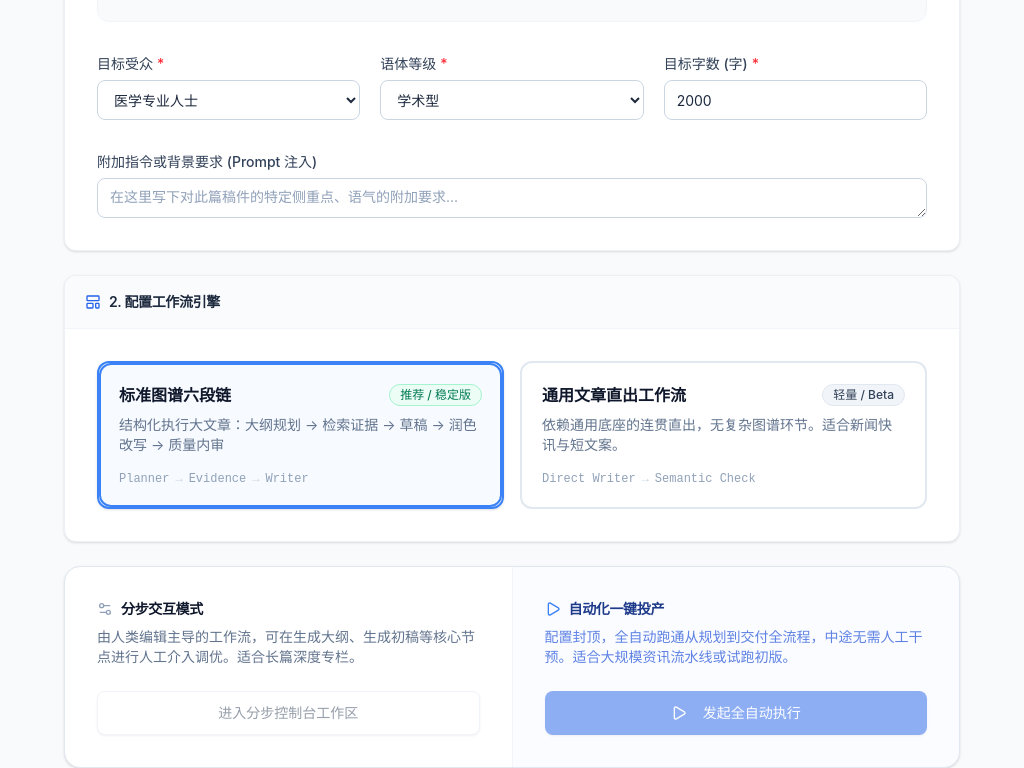
Test case: NewTaskPage 工作流选择 › 选择文章工作流后分步按钮显示仅限六段链可用
(page scrolled)
Click the text "通用文章直出工作流" at (614, 395), box [542, 383, 686, 407]
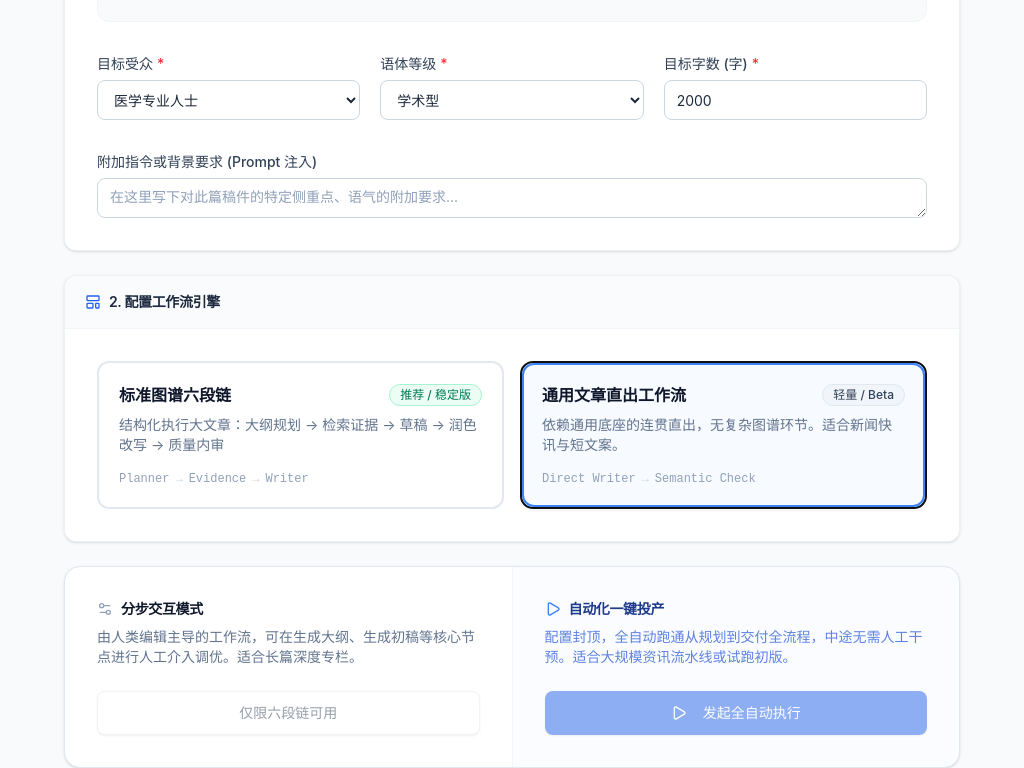
Check: the button "仅限六段链可用" is shown, box [97, 691, 480, 735]
